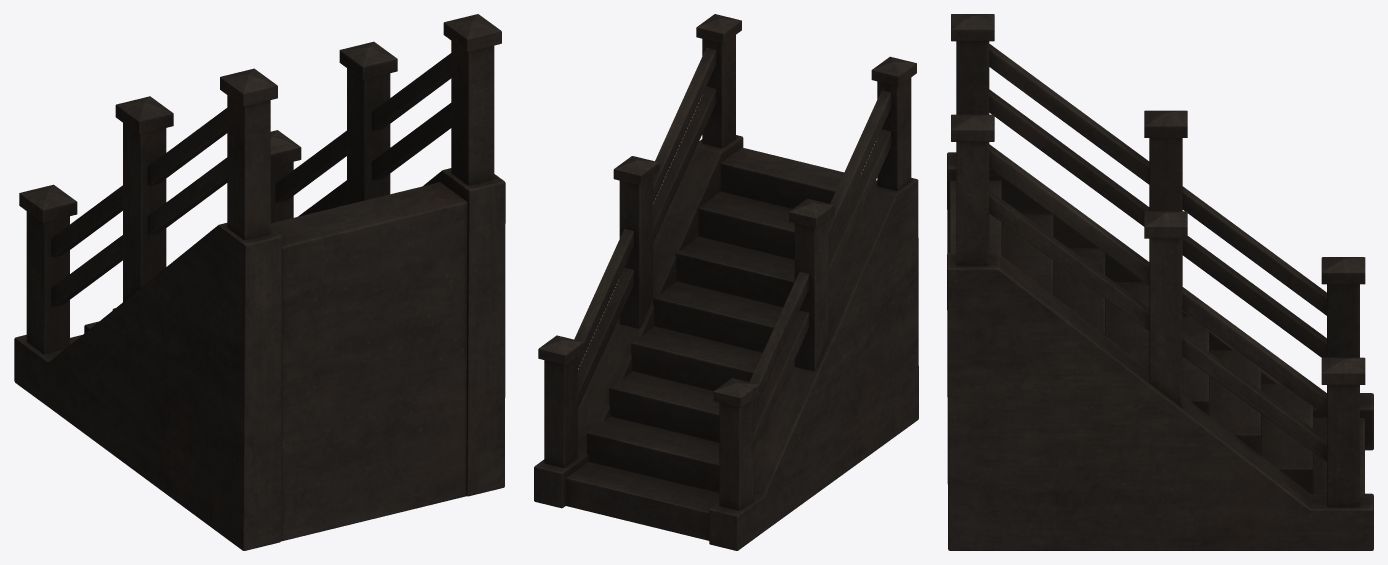
File: Stairsup_Stairs_low.fbx
3 renders of one model, left to right at view 1: azimuth 30°, elevation 25°; view 2: azimuth 150°, elevation 25°; view 3: azimuth 270°, elevation 25°, orthographic. The views are drawn at different scales.
Parts seen in each view (by area): view 1: Stairs_low; view 2: Stairs_low; view 3: Stairs_low.
Part boxes in pixels (x1,y1,x2,y2): Stairs_low: (14, 14, 505, 550); Stairs_low: (534, 14, 918, 550); Stairs_low: (947, 14, 1373, 550).
Bounding box in the file's own units: 561 × 945 × 857.
